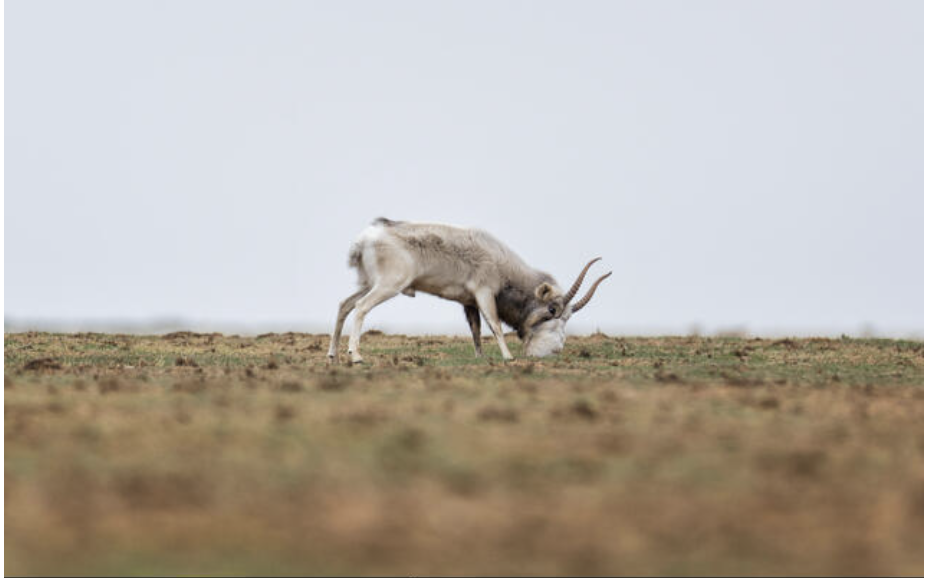saiga: (310, 207, 609, 366)
